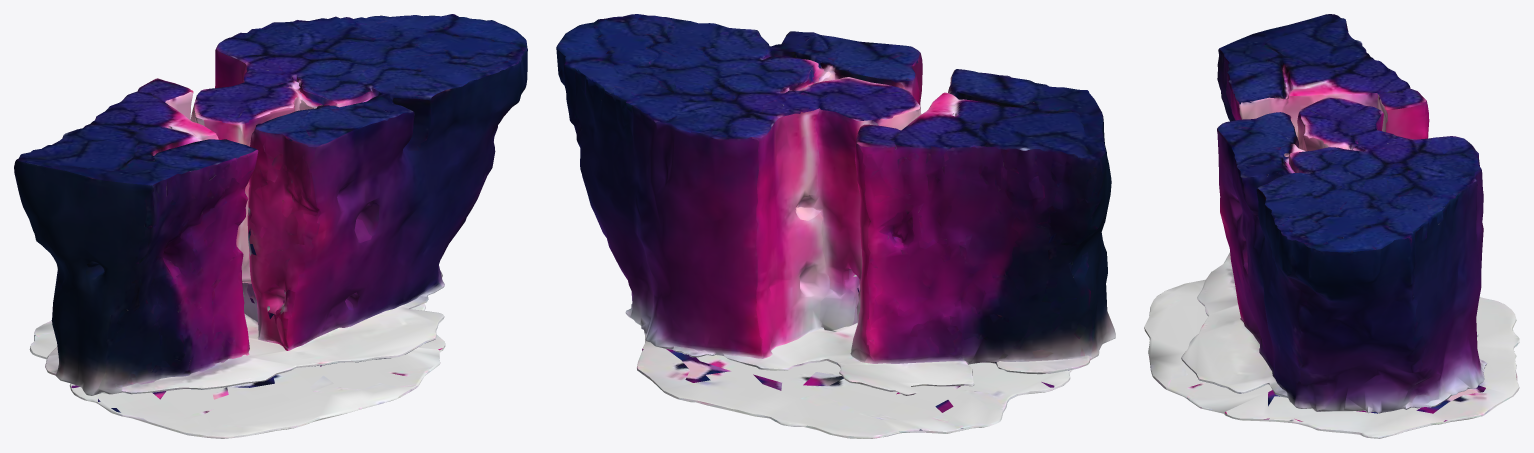
The model's file is shelf-break-1-generated-2026-05-17T20-34-49-162Z.low.glb.
The picture shows the model from 3 angles, left to right: view 1: azimuth 30°, elevation 25°; view 2: azimuth 150°, elevation 25°; view 3: azimuth 270°, elevation 25°; orthographic projection. The views are drawn at different scales.
Visible parts, largest first — view 1: temp_mesh.ply; view 2: temp_mesh.ply; view 3: temp_mesh.ply.
Boxes of the visible parts, left/top/right/bottom form: temp_mesh.ply: left=14, top=14, right=527, bottom=438; temp_mesh.ply: left=556, top=14, right=1115, bottom=438; temp_mesh.ply: left=1144, top=14, right=1519, bottom=438.
Size of the model in its own units: 1.97 by 0.8974 by 1.32.
1 material, 1 textured.
